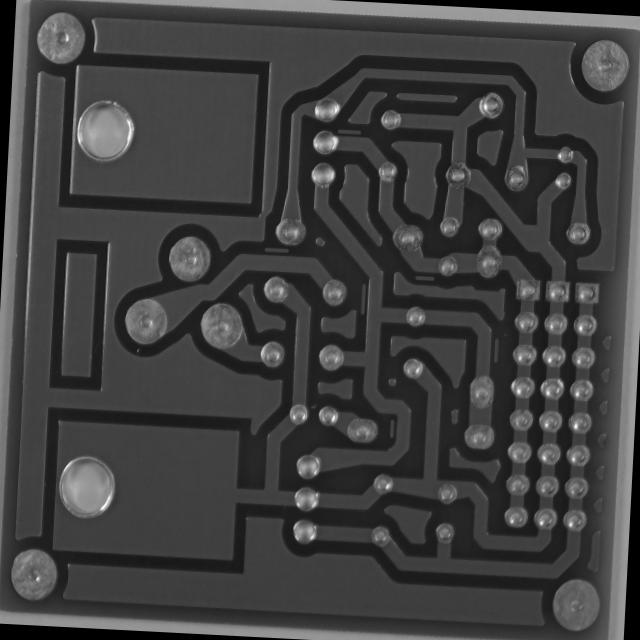spurious_copper: (354, 279, 371, 317), (262, 241, 292, 259), (336, 124, 364, 140), (488, 333, 502, 365), (412, 269, 436, 285), (384, 414, 398, 441)
